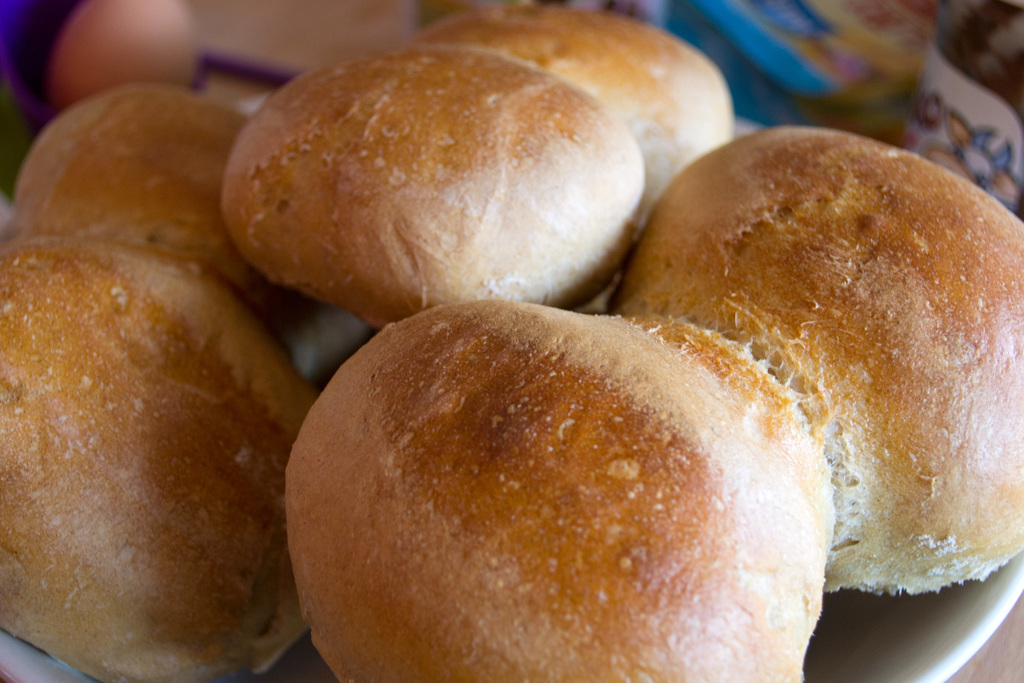person: (33, 0, 680, 112)
